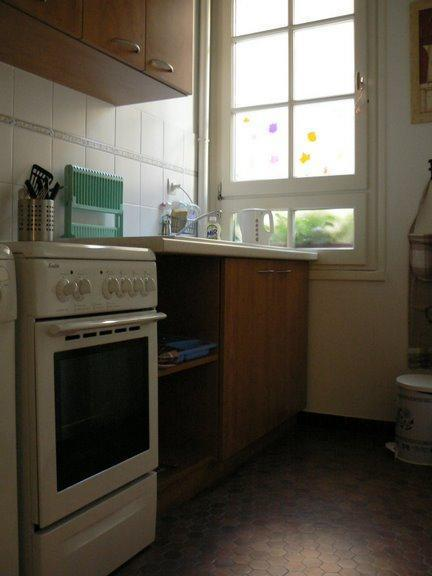Bote de Basura: (374, 369, 431, 462)
Electrodomestico: (3, 229, 157, 570)
Ventana: (218, 9, 366, 260)
